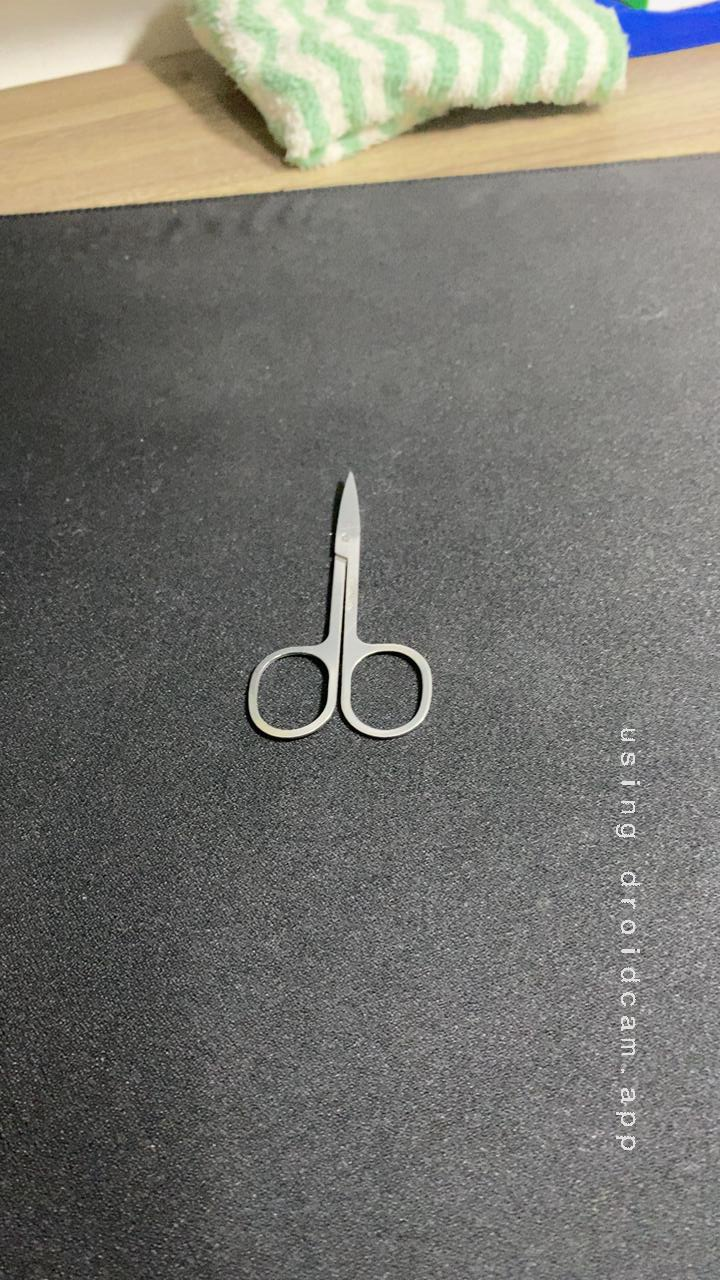scissor: (224, 457, 455, 750)
